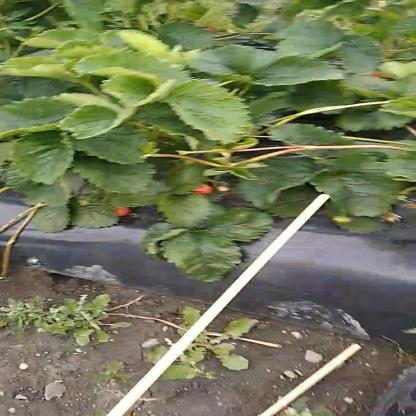ripe: (194, 184, 212, 194), (115, 208, 128, 218)
unripe: (331, 215, 348, 225)
